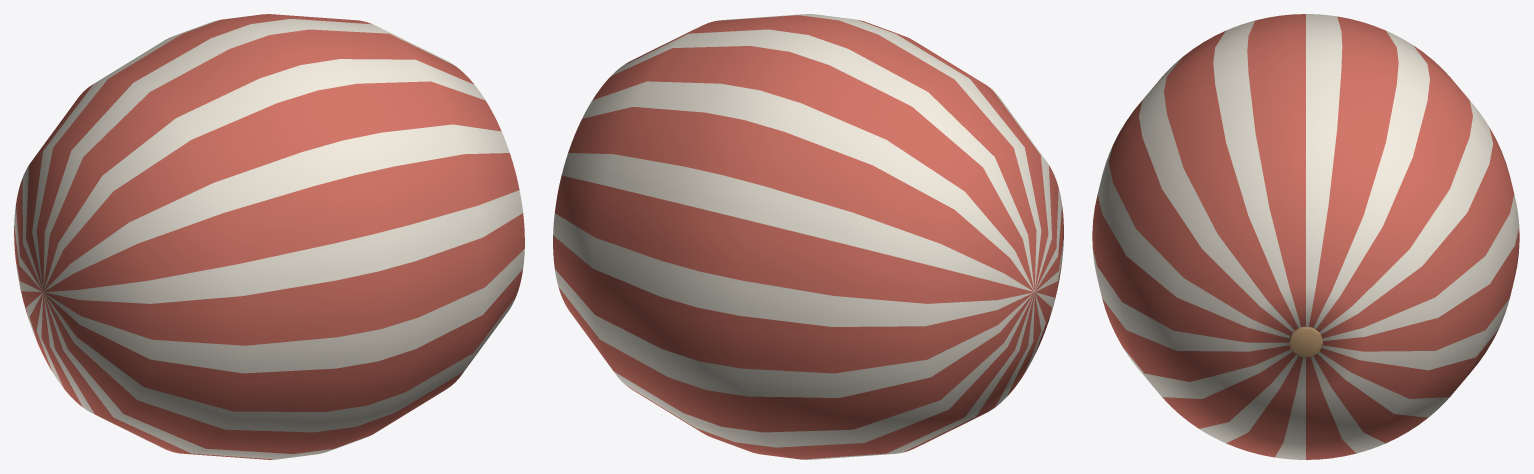
The model's file is nd_watermelon.glb.
The picture shows the model from 3 angles, left to right: view 1: azimuth 30°, elevation 25°; view 2: azimuth 150°, elevation 25°; view 3: azimuth 270°, elevation 25°; orthographic projection. The views are drawn at different scales.
Visible parts, largest first — view 1: PART; view 2: PART; view 3: PART.
Boxes of the visible parts, <box> form: PART: <box>14,14,524,459</box>; PART: <box>553,14,1063,459</box>; PART: <box>1092,14,1519,459</box>.
Size of the model in its own units: 0.341 by 0.29 by 0.29.
